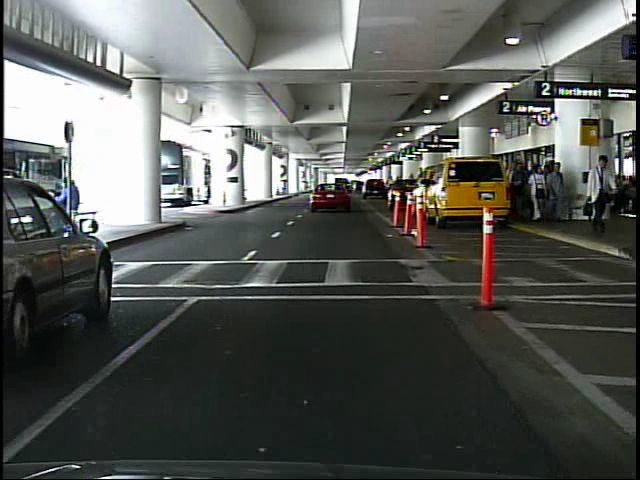person: (582, 153, 618, 233), (545, 160, 567, 222), (529, 161, 548, 224)
